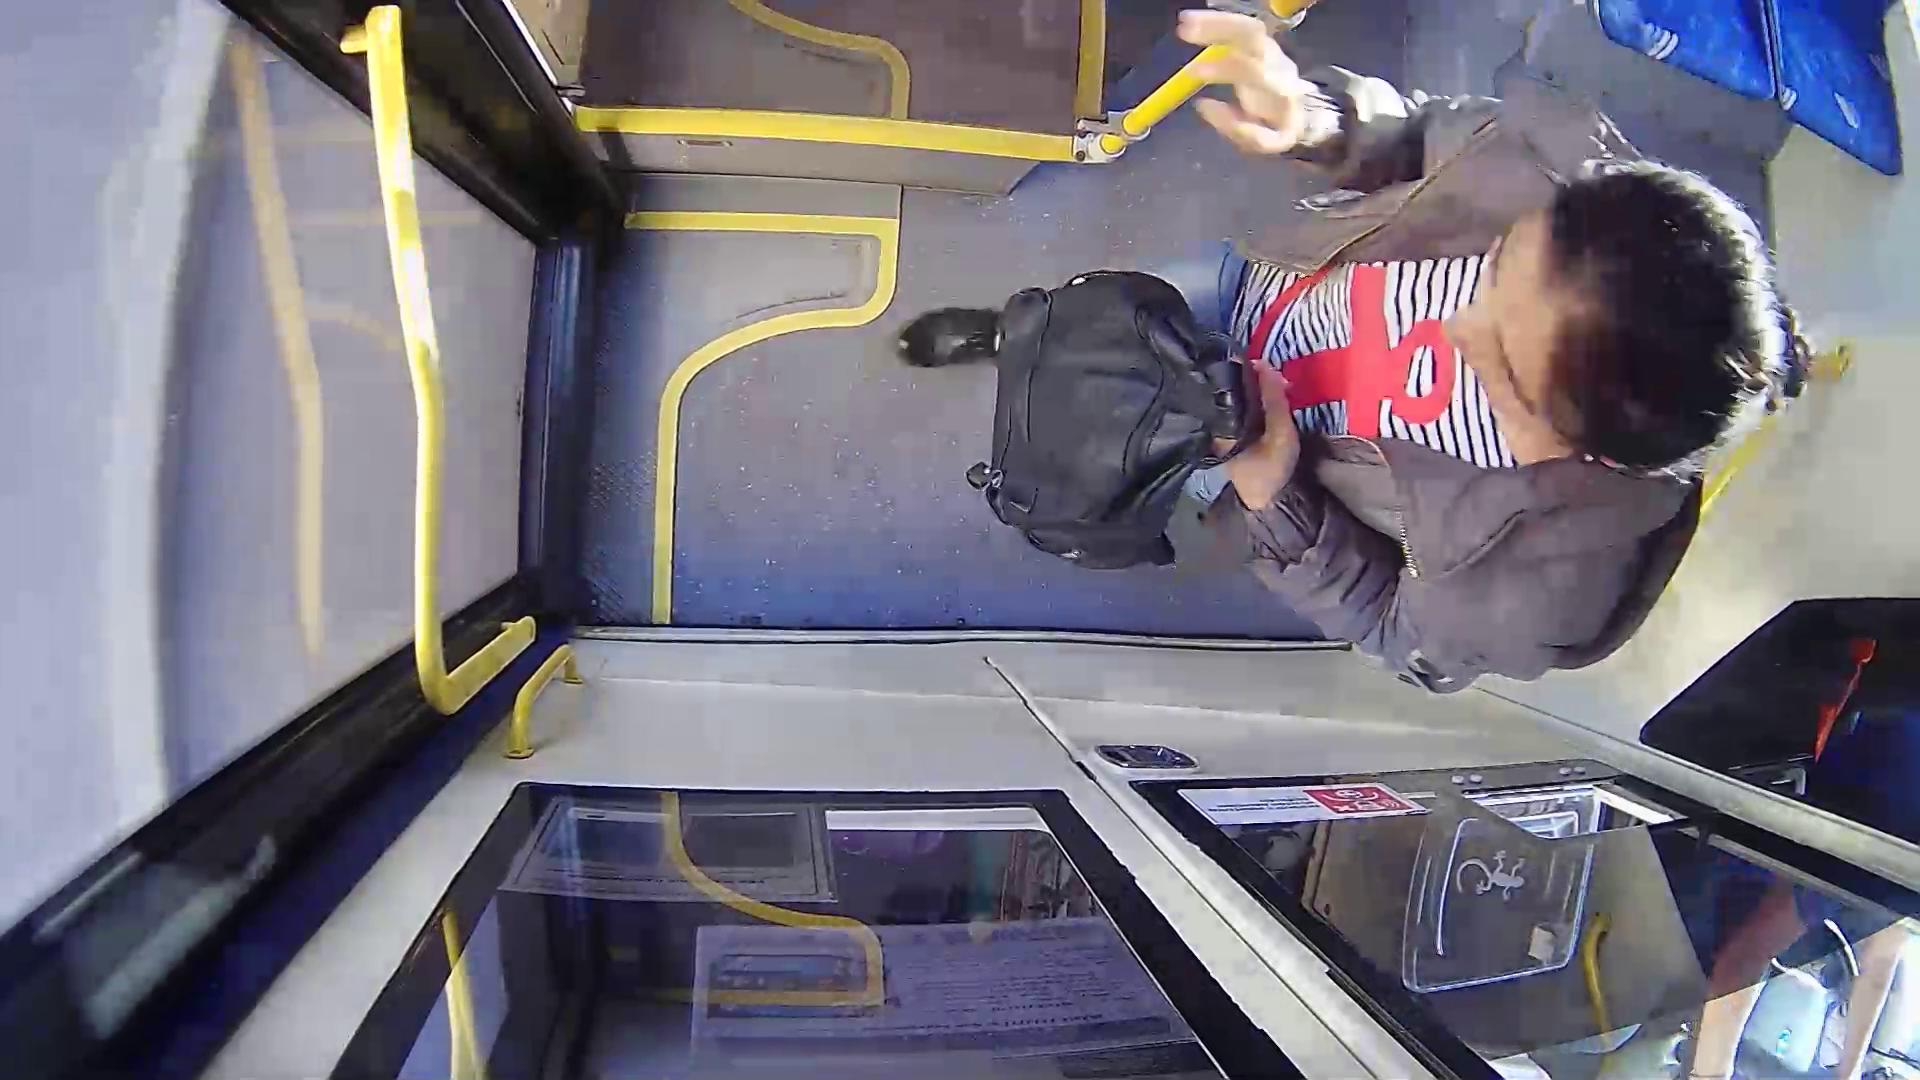person: (945, 63, 1805, 674)
